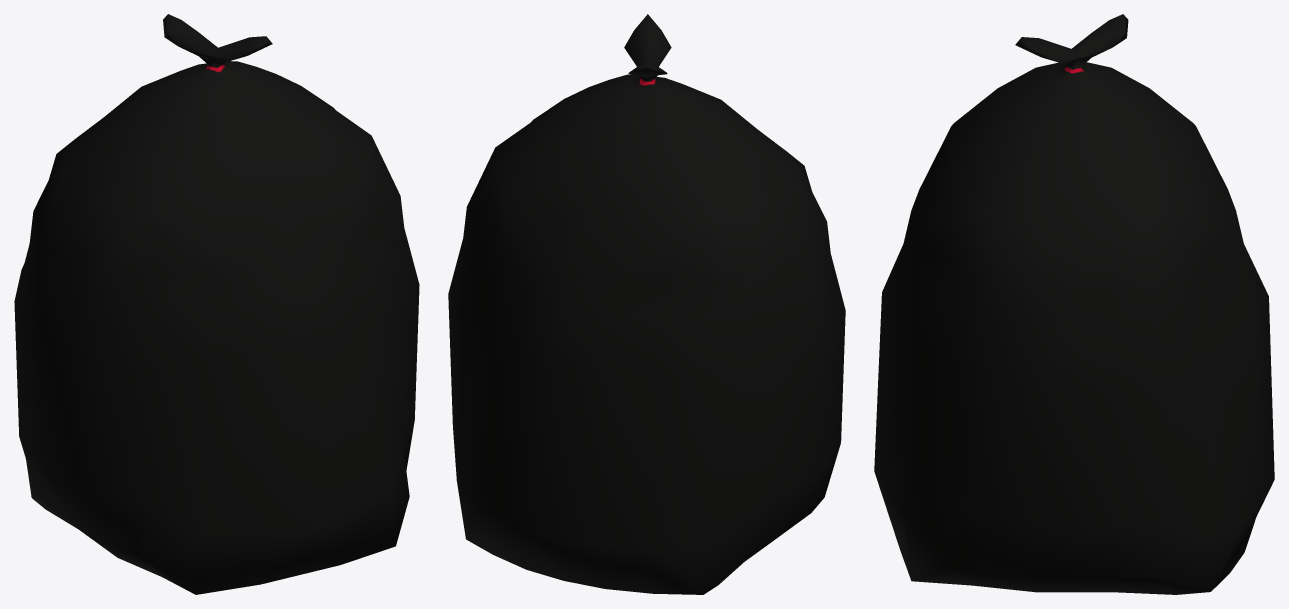
The model's file is garbage_bag_01.fbx.
3 renders of one model, left to right at view 1: azimuth 30°, elevation 25°; view 2: azimuth 150°, elevation 25°; view 3: azimuth 270°, elevation 25°, orthographic. The views are drawn at different scales.
Visible parts, largest first — view 1: garbage_bag_01; view 2: garbage_bag_01; view 3: garbage_bag_01.
Boxes of the visible parts, box(x1,y1,x2,y2) form: garbage_bag_01: box(14, 14, 419, 594); garbage_bag_01: box(448, 14, 845, 594); garbage_bag_01: box(874, 14, 1274, 594).
Size of the model in its own units: 41.39 by 56.8 by 39.07.
